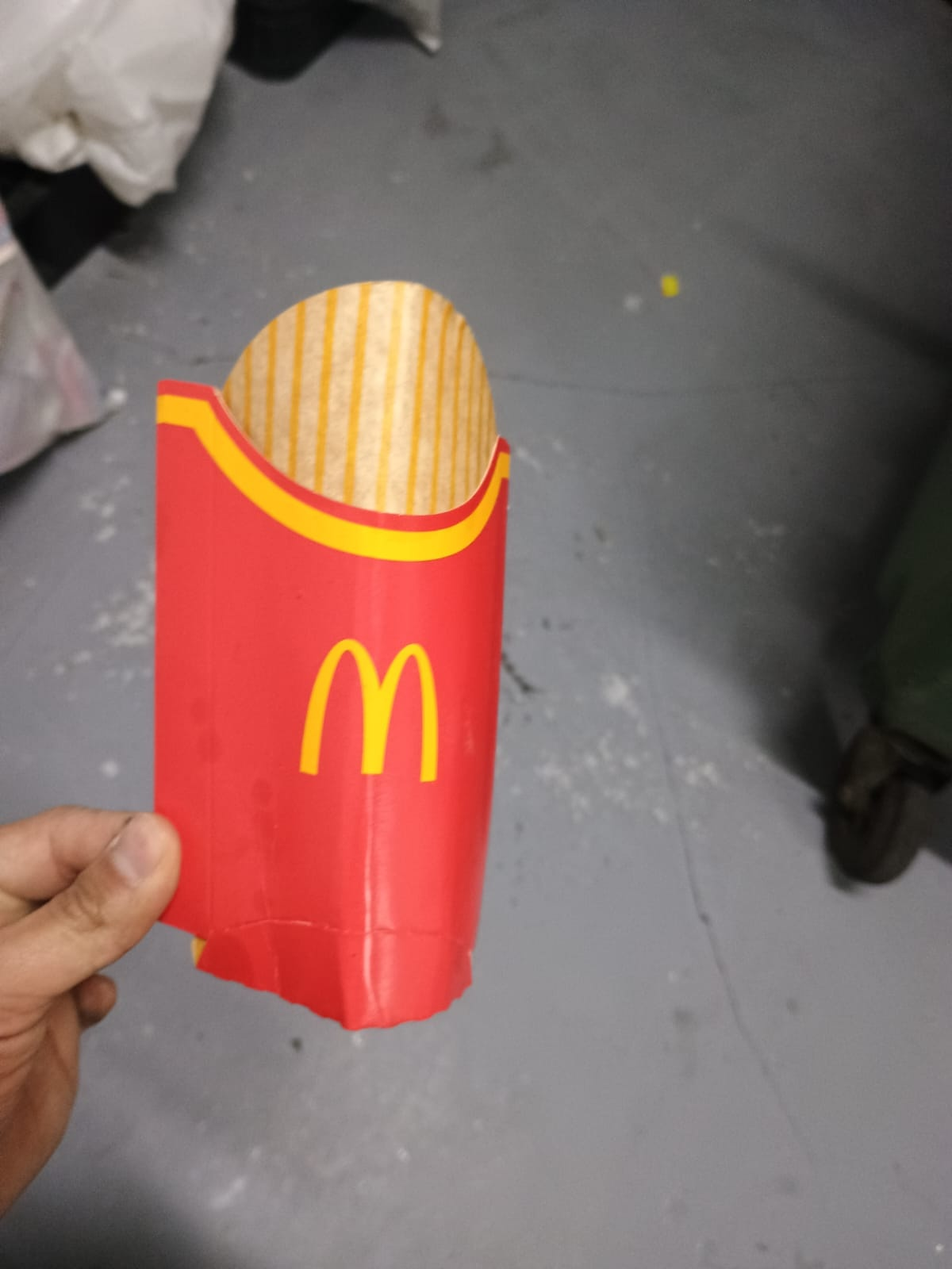Carton: (154, 278, 506, 1032)
